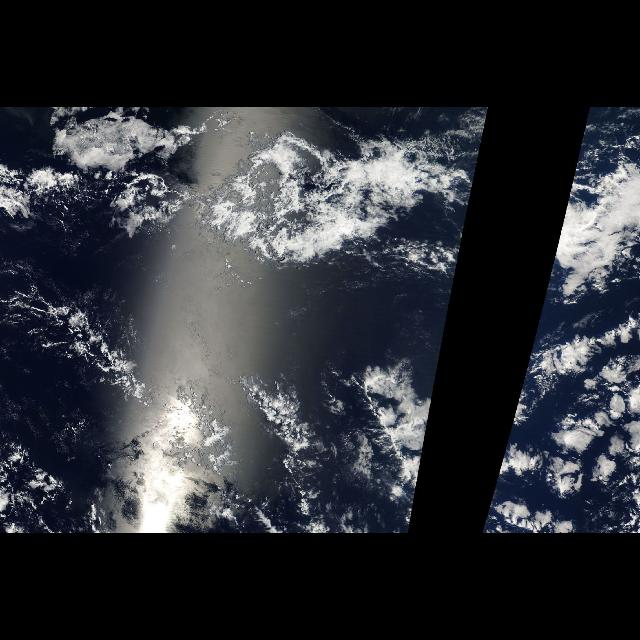Flower: (482, 221, 640, 533)
